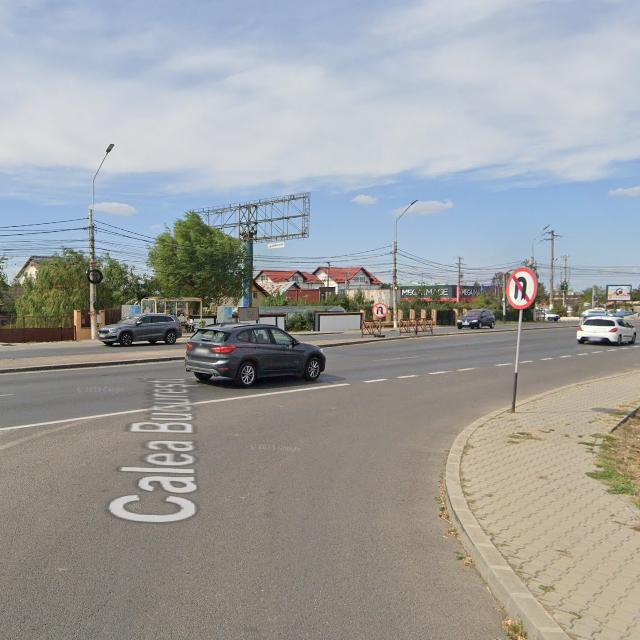forb_u_turn: (505, 268, 537, 310), (372, 303, 388, 319)
